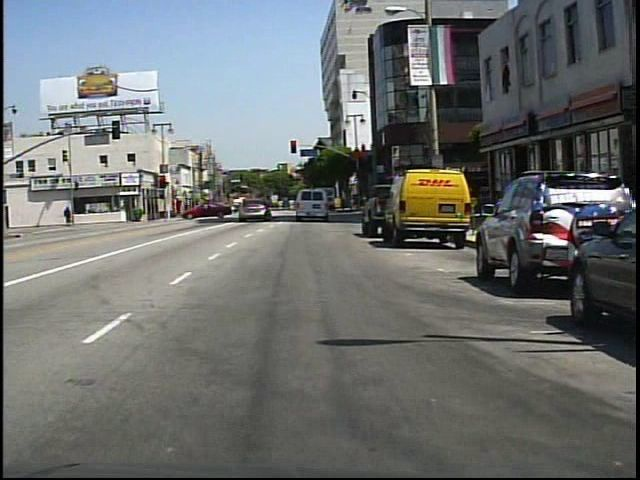person: (262, 193, 279, 224), (63, 205, 72, 225)
